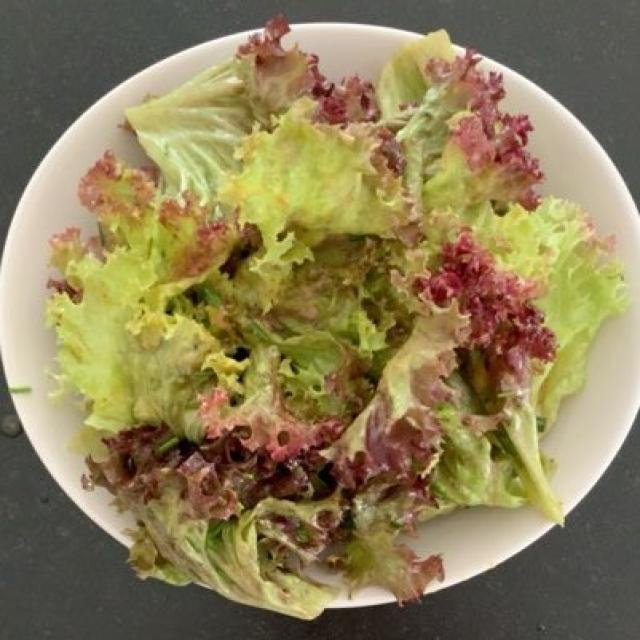salad: (57, 48, 599, 608)
